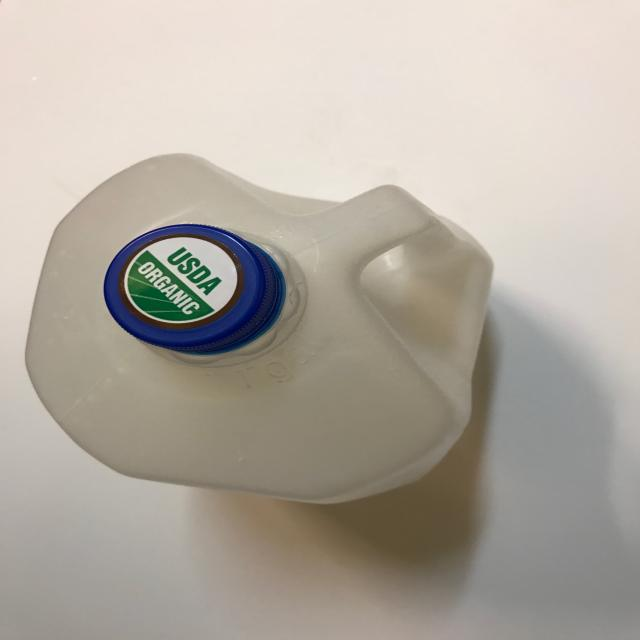plastic: (24, 151, 495, 505)
